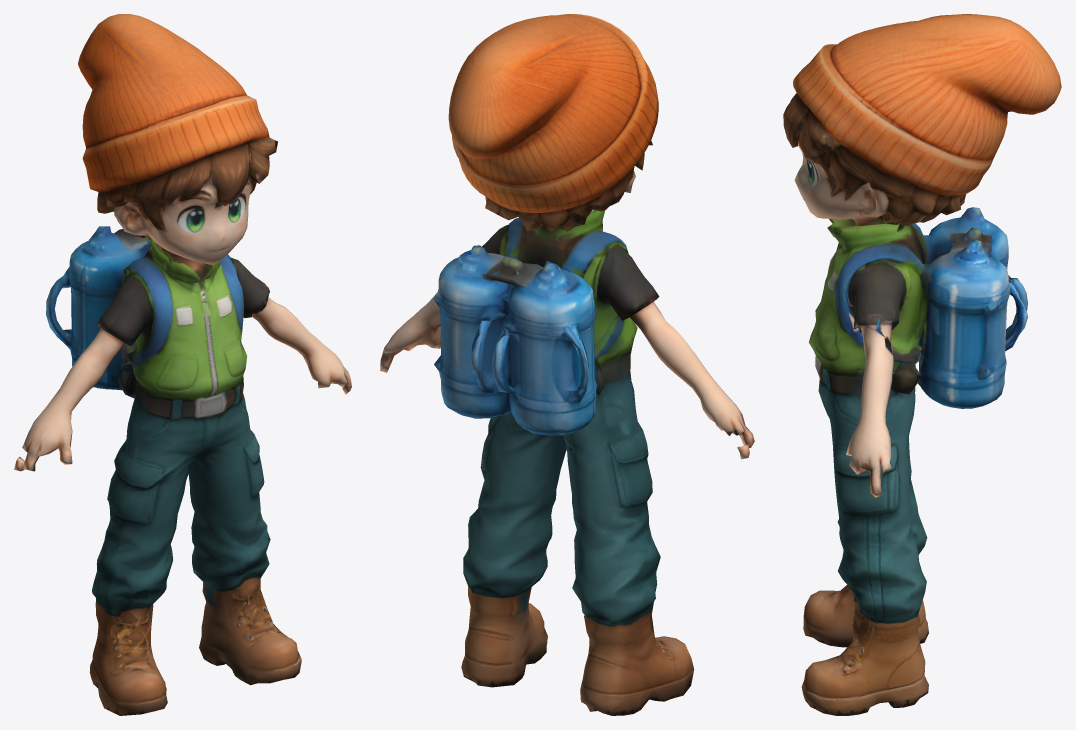
Rendered from Player_Low_5K.glb.
3 renders of one model, left to right at view 1: azimuth 30°, elevation 25°; view 2: azimuth 150°, elevation 25°; view 3: azimuth 270°, elevation 25°, orthographic. The views are drawn at different scales.
Visible parts, largest first — view 1: Player_Low_5K; view 2: Player_Low_5K; view 3: Player_Low_5K.
Part boxes in pixels (x1,y1,x2,y2): Player_Low_5K: (14,14,351,715); Player_Low_5K: (380,14,754,715); Player_Low_5K: (783,14,1061,715).
Size of the model in its own units: 1.02 by 1.8 by 0.7002.
1 material, 1 textured.
